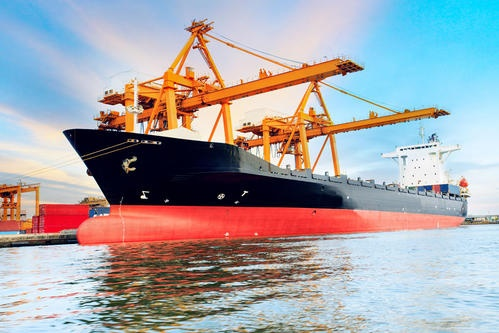Cargoship: (61, 121, 471, 243)
